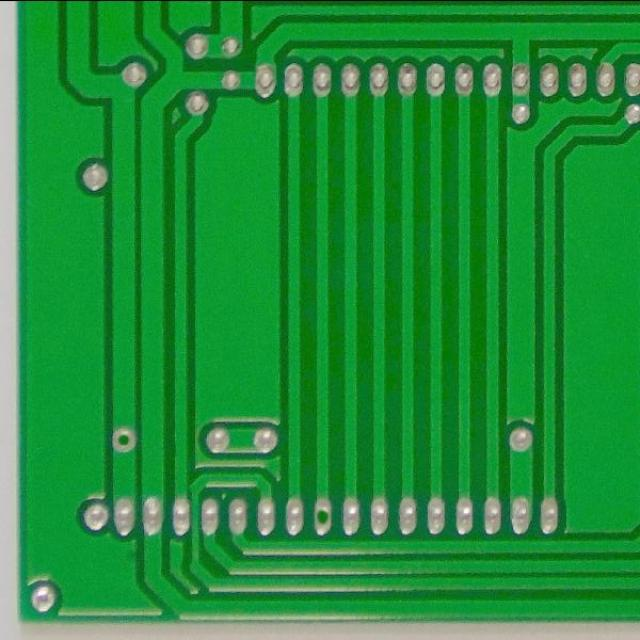Missing_Hole: (309, 497, 337, 536), (108, 424, 138, 454)
